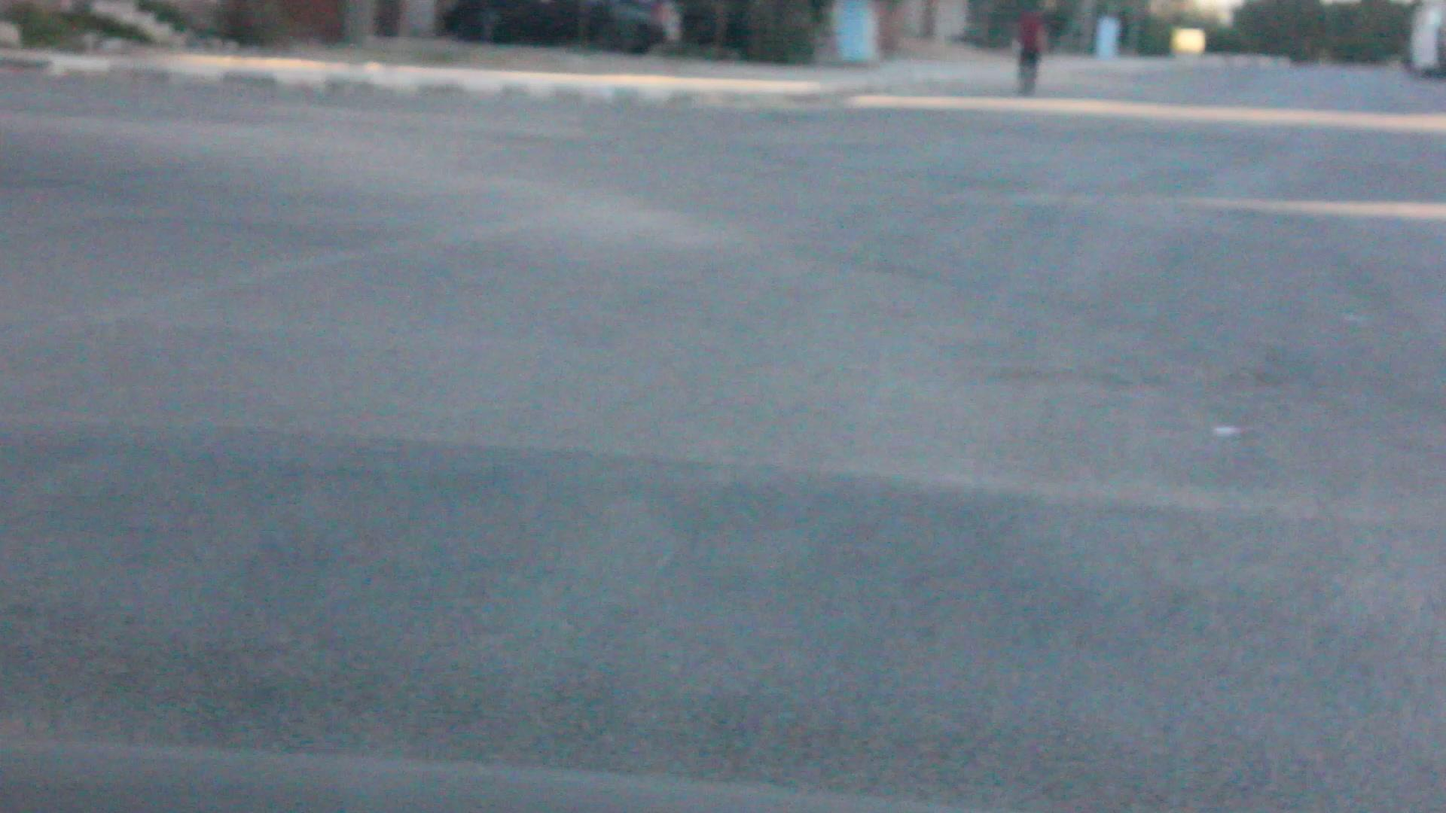Bump: (8, 402, 1445, 807)
